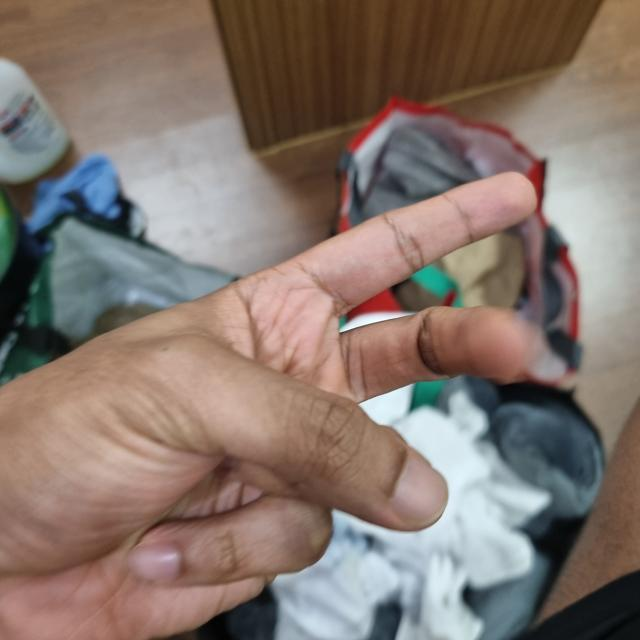Scissors: (0, 173, 559, 639)
